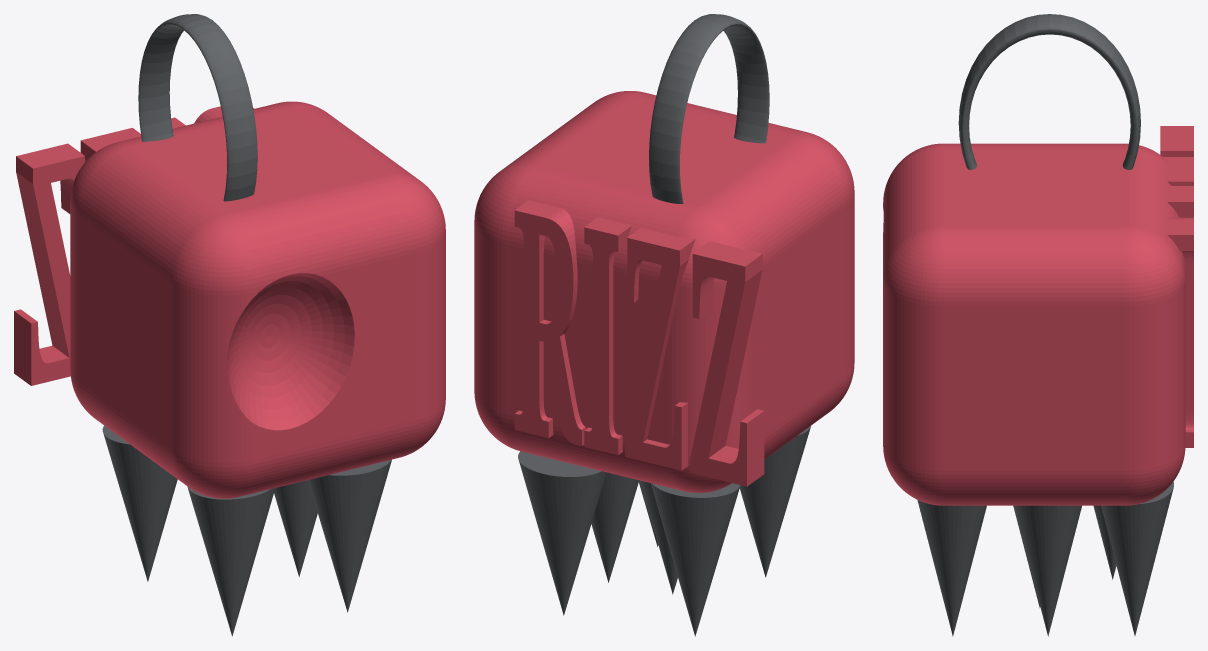
3 renders of one model, left to right at view 1: azimuth 30°, elevation 25°; view 2: azimuth 150°, elevation 25°; view 3: azimuth 270°, elevation 25°, orthographic. The views are drawn at different scales.
Visible parts, largest first — view 1: Mesh_Mesh_head_geo.001_lambert2SG.001; view 2: Mesh_Mesh_head_geo.001_lambert2SG.001; view 3: Mesh_Mesh_head_geo.001_lambert2SG.001.
Boxes of the visible parts, x1=… form: Mesh_Mesh_head_geo.001_lambert2SG.001: x1=14, y1=14, x2=445, y2=636; Mesh_Mesh_head_geo.001_lambert2SG.001: x1=474, y1=14, x2=854, y2=636; Mesh_Mesh_head_geo.001_lambert2SG.001: x1=883, y1=14, x2=1193, y2=636.
Bounding box in the file's own units: 0.04 × 0.075 × 0.037.
